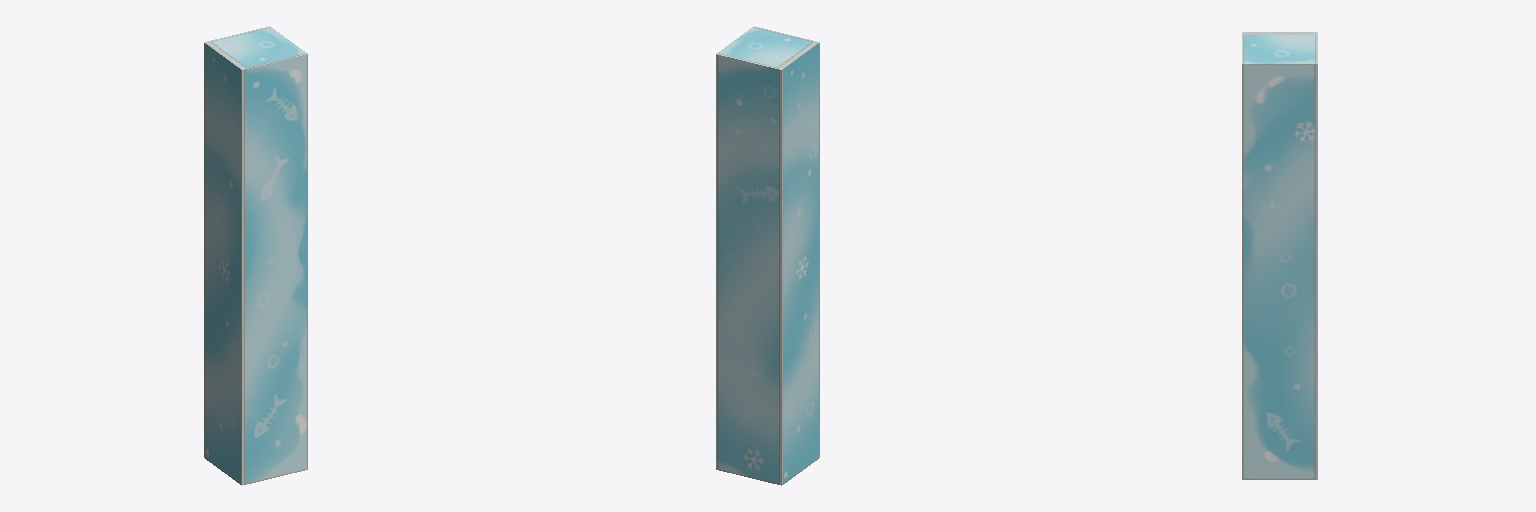
3 renders of one model, left to right at view 1: azimuth 30°, elevation 25°; view 2: azimuth 150°, elevation 25°; view 3: azimuth 270°, elevation 25°, orthographic.
Visible parts, largest first — view 1: Cube; view 2: Cube; view 3: Cube.
Boxes of the visible parts, x1,y1,x2,y2 form: Cube: [204, 26, 307, 485]; Cube: [716, 26, 819, 485]; Cube: [1242, 32, 1317, 479].
Size of the model in its own units: 2 by 12 by 2.
Materials: 1 (1 with a texture image).